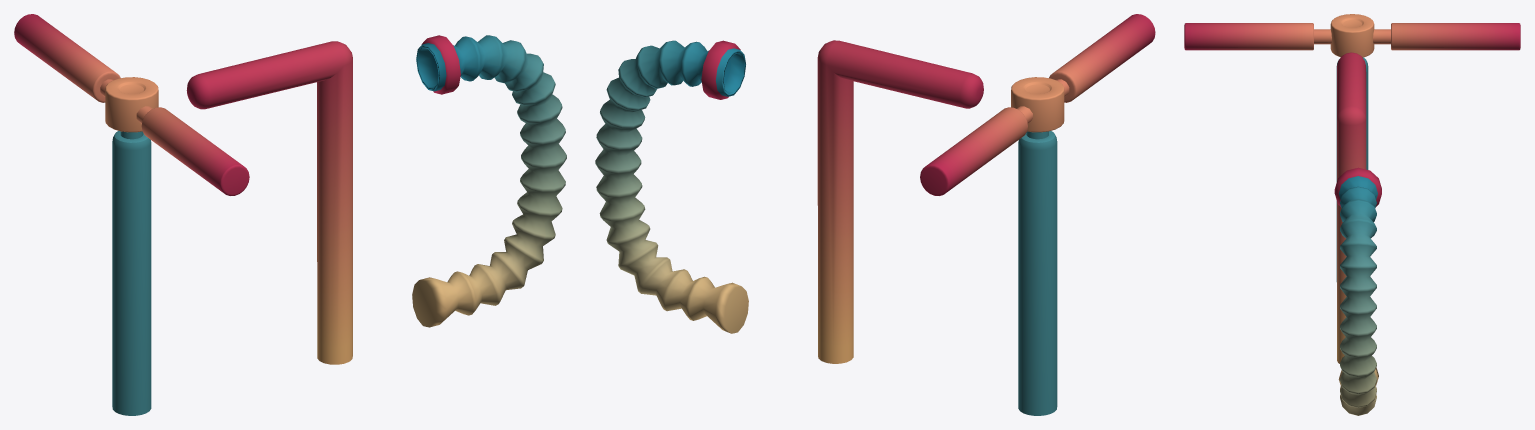
File: Obstacles.fbx
3 views of the same model, side by side, from view 1: azimuth 30°, elevation 25°; view 2: azimuth 150°, elevation 25°; view 3: azimuth 270°, elevation 25° (orthographic). The views are drawn at different scales.
Visible parts, largest first — view 1: Vacuum, HeightObstacle, PropellerPlatform.002, Sticks.003, Turnable.007; view 2: Vacuum, HeightObstacle, PropellerPlatform.002, Sticks.003, Turnable.007; view 3: Vacuum, Sticks.003, HeightObstacle, Turnable.007, PropellerPlatform.002.
Boxes of the visible parts, x1,y1,x2,y2 form: Vacuum: (412, 35, 566, 327); HeightObstacle: (186, 41, 352, 364); PropellerPlatform.002: (112, 131, 151, 415); Sticks.003: (14, 14, 249, 195); Turnable.007: (105, 77, 158, 132); Vacuum: (595, 40, 748, 333); HeightObstacle: (817, 40, 983, 363); PropellerPlatform.002: (1018, 131, 1057, 415); Sticks.003: (920, 14, 1155, 195); Turnable.007: (1011, 77, 1064, 132); Vacuum: (1334, 167, 1381, 415); Sticks.003: (1184, 23, 1520, 50); HeightObstacle: (1337, 52, 1366, 363); Turnable.007: (1330, 14, 1374, 57); PropellerPlatform.002: (1336, 57, 1368, 281).
Bounding box in the file's own units: 17.51 × 11.66 × 13.72.
